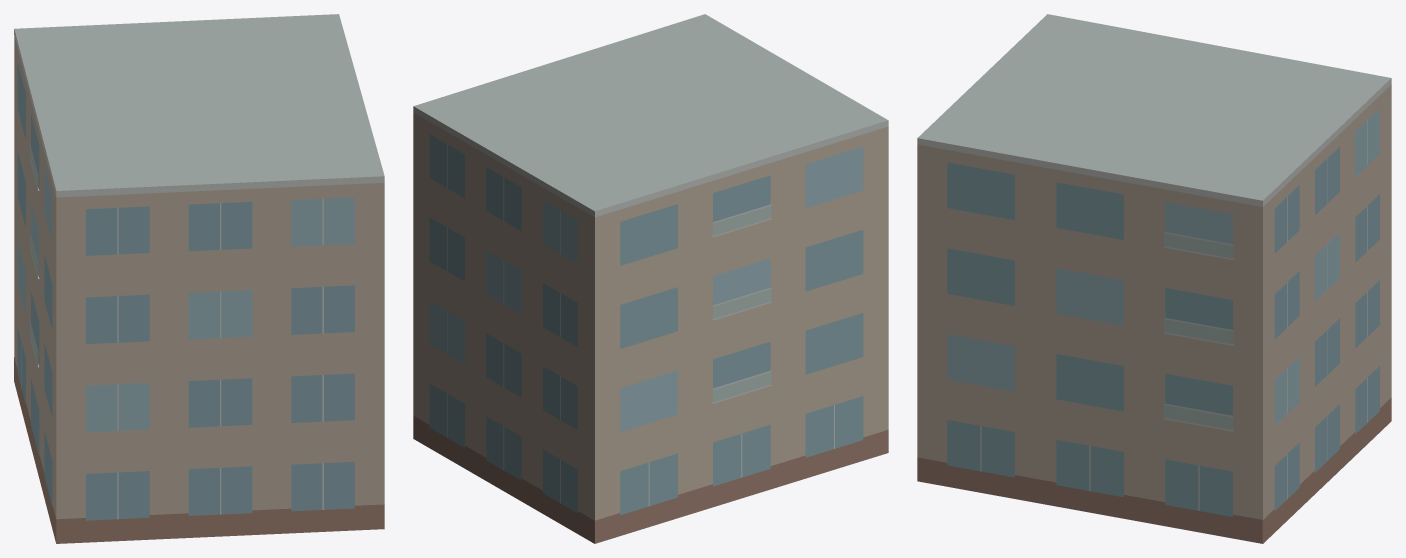
File: survey-upis-32998595.glb
The picture shows the model from 3 angles, left to right: view 1: azimuth 30°, elevation 25°; view 2: azimuth 150°, elevation 25°; view 3: azimuth 270°, elevation 25°; orthographic projection. The views are drawn at different scales.
Visible parts, largest first — view 1: survey-upis-32998595.tmp; view 2: survey-upis-32998595.tmp; view 3: survey-upis-32998595.tmp.
Part boxes in pixels (box(x1,y1,x2,y2)): survey-upis-32998595.tmp: box(14, 14, 384, 543); survey-upis-32998595.tmp: box(413, 14, 888, 543); survey-upis-32998595.tmp: box(917, 14, 1391, 543).
Bounding box in the file's own units: 15.41 × 13.2 × 16.54.
